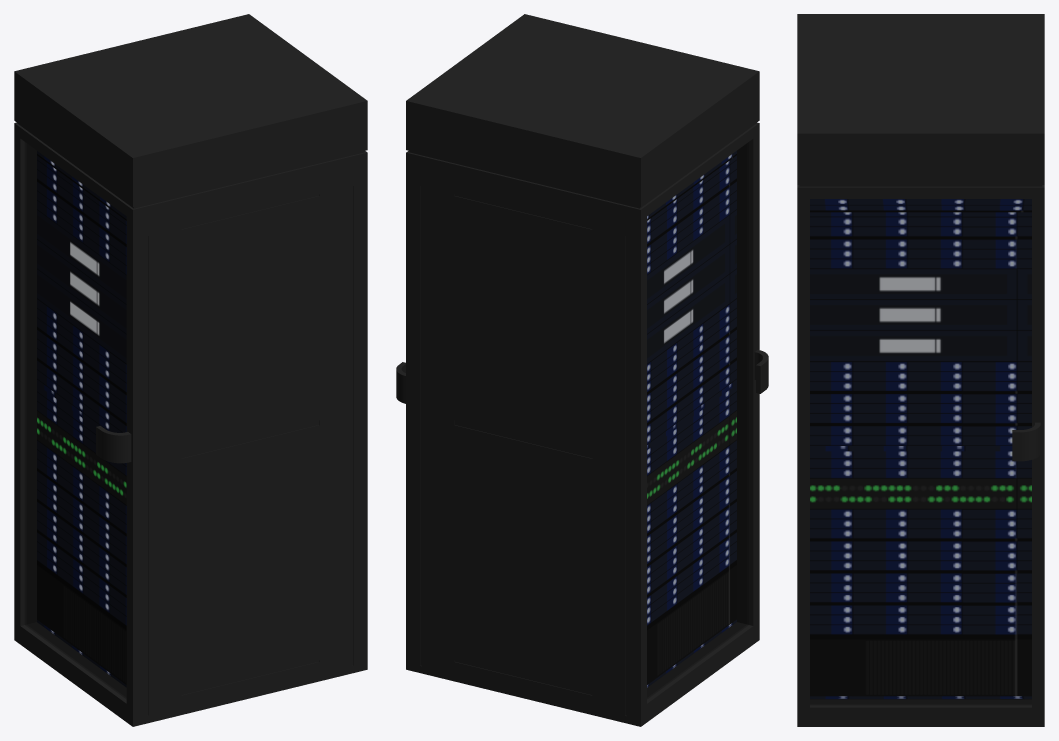
Rendered from data_center_rack.glb.
3 views of the same model, side by side, from view 1: azimuth 30°, elevation 25°; view 2: azimuth 150°, elevation 25°; view 3: azimuth 270°, elevation 25° (orthographic). The views are drawn at different scales.
Parts seen in each view (by area): view 1: Object_2, Object_4, Object_3; view 2: Object_2, Object_4, Object_3; view 3: Object_4, Object_3, Object_2.
Boxes of the visible parts, x1,y1,x2,y2 form: Object_2: [14, 14, 367, 726]; Object_4: [25, 142, 126, 698]; Object_3: [37, 151, 126, 687]; Object_2: [396, 14, 768, 726]; Object_4: [647, 142, 748, 698]; Object_3: [647, 151, 736, 687]; Object_4: [810, 199, 1031, 704]; Object_3: [810, 199, 1031, 699]; Object_2: [797, 14, 1044, 726].
Size of the model in its own units: 1.16 by 2.31 by 0.875.
Materials: 3 (1 with a texture image).
